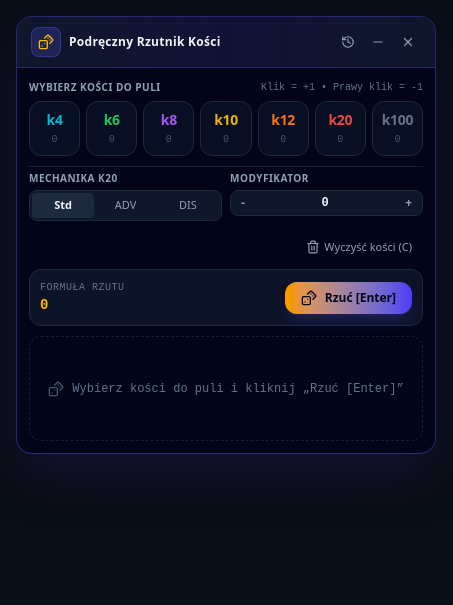
Test: DraggableDiceTray Component › renders quick polyhedral dice tokens tray when rolling
Expected: the element with test id "dice-tray-empty-placeholder" is shown, [29, 336, 423, 441]
Note: Roll 1d20
Click the button with test id "die-btn-d20".
click(340, 128)  # box [315, 101, 366, 156]
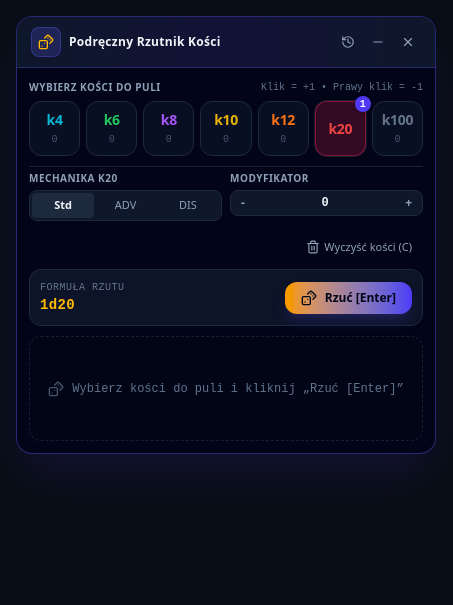
Click the button with test id "roll-dice-btn".
click(348, 298)  # box [285, 282, 412, 314]
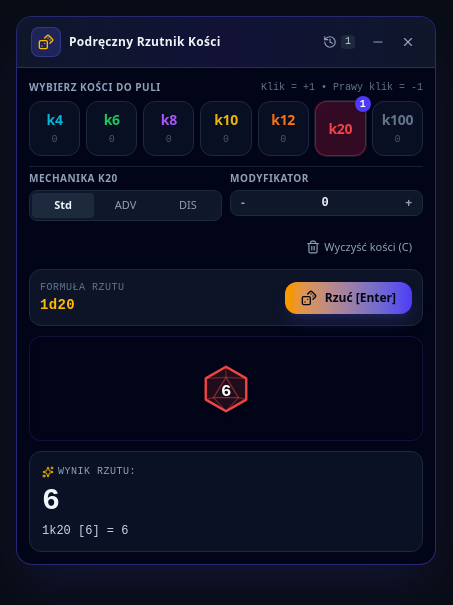
Now the element with test id "dice-tokens-tray" is shown, box [29, 336, 423, 441]
Now the element with test id "die-token-d20" is shown, box [199, 362, 253, 416]
